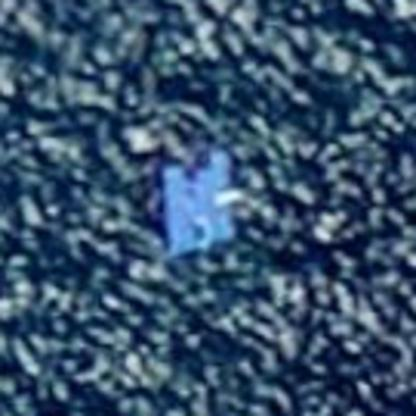ship: (154, 143, 238, 262)
